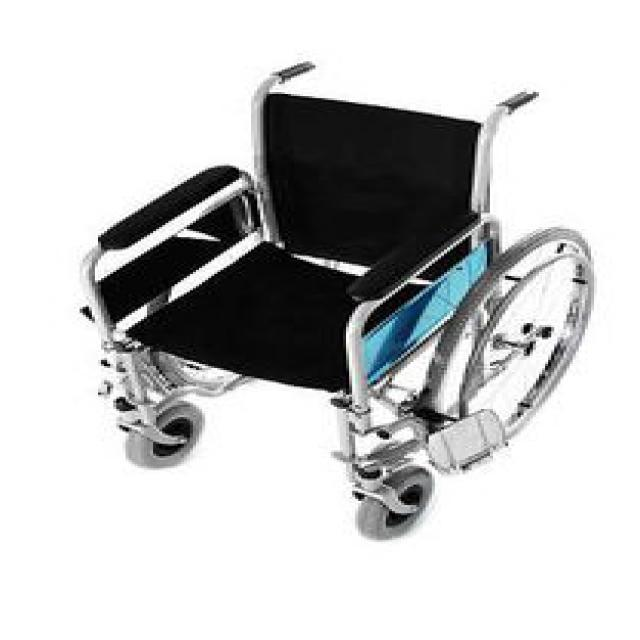wheelchair: (64, 55, 604, 548)
